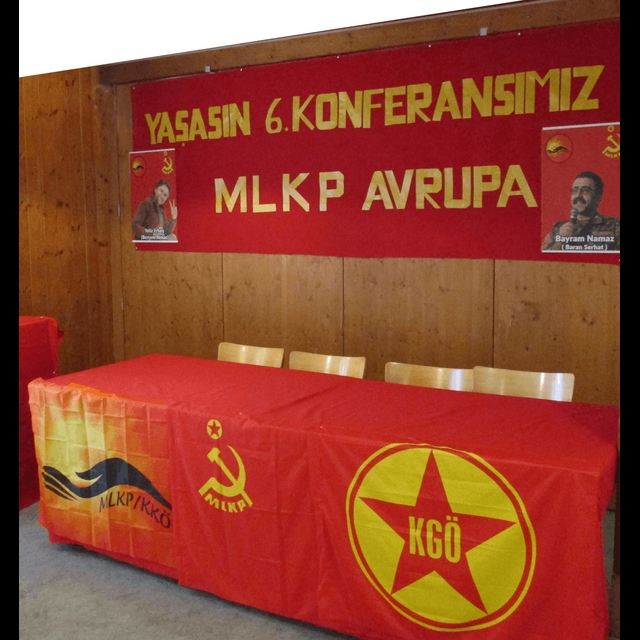MLKP: (189, 410, 265, 534), (597, 118, 626, 163), (158, 145, 179, 178)
